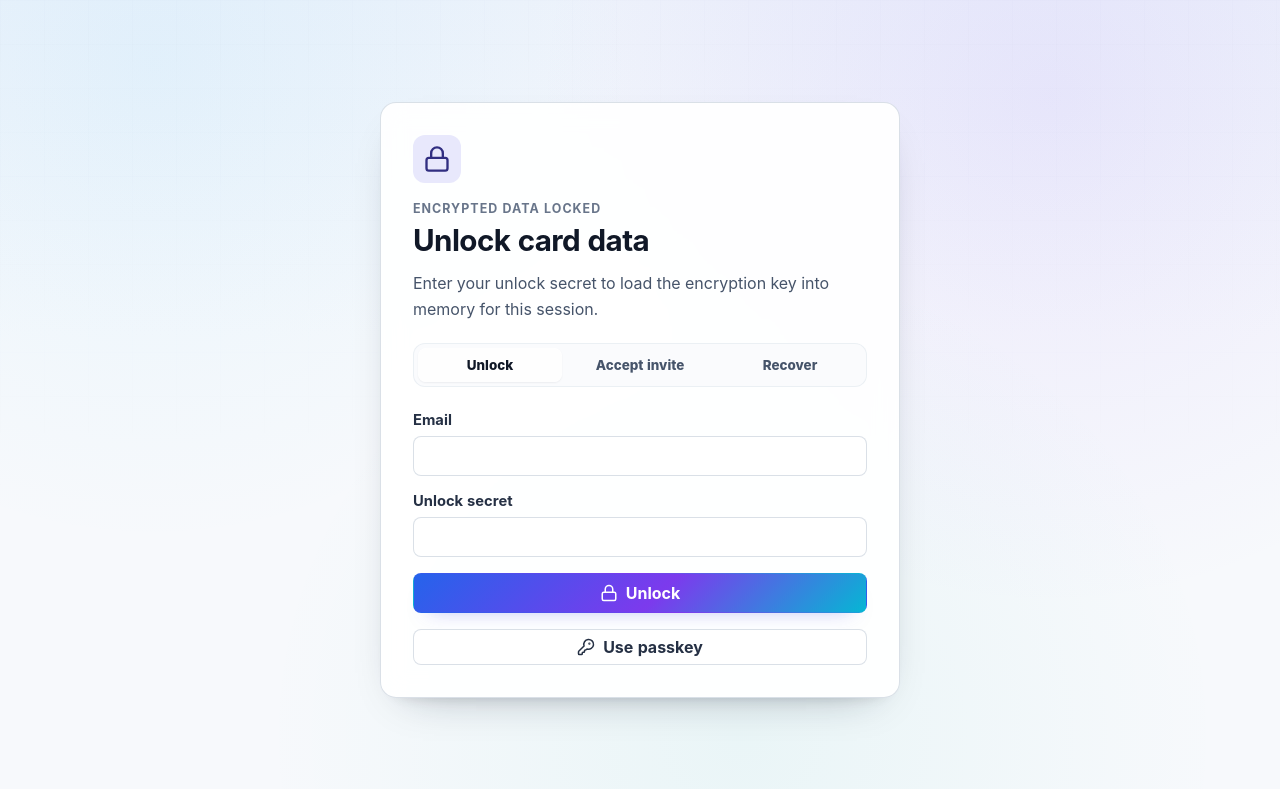
Test case: App › accepts an invite from the locked screen
The width and height of the screenshot is (1280, 789).
Expected: the heading "Unlock card data" is shown, [413,222,649,258]
Step 1. Click the button with aria-label "show invite form" → point(640, 365), box [568,348,712,382]
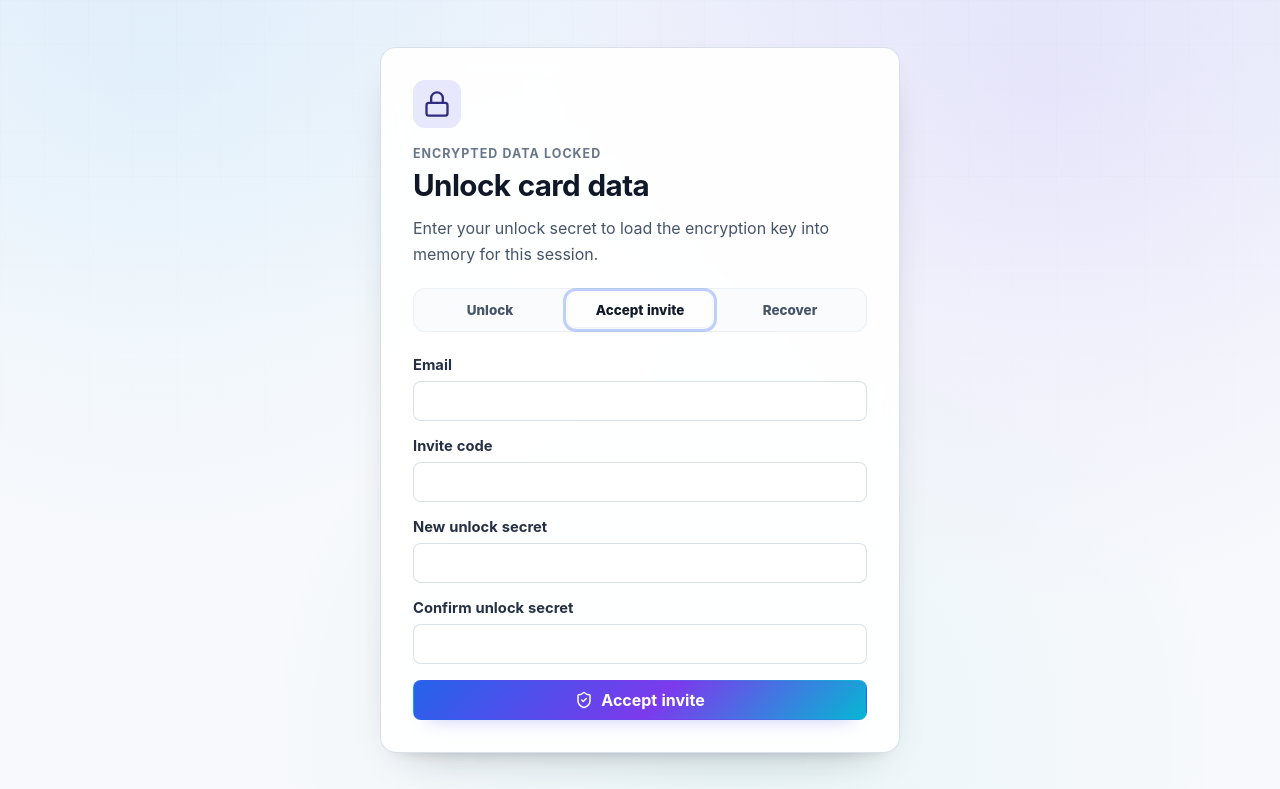
Step 2. Type "viewer@example.com" into the field labelled "Email" → point(640, 401), box [413,381,867,421]
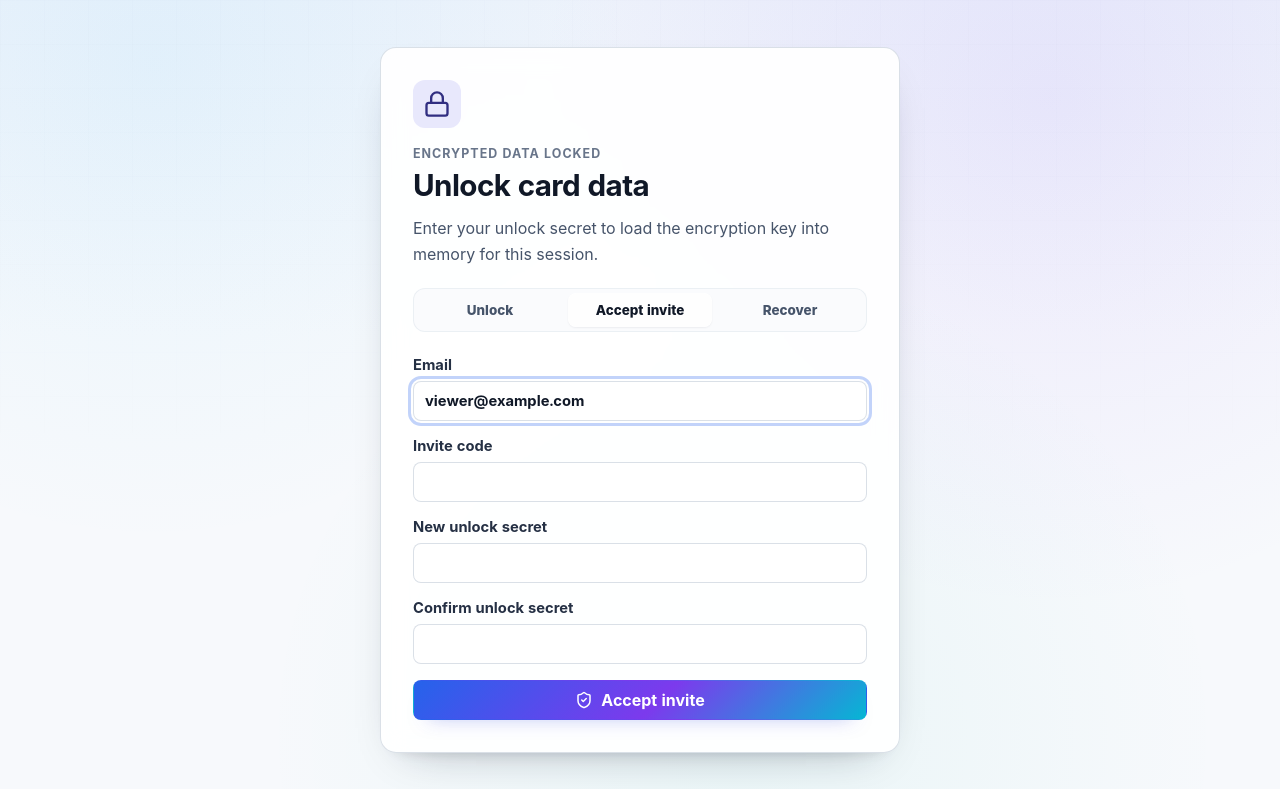
Step 3. Type "GC-INV-ABCD-EFGH-IJKL-MNOP-QRST-UVWX" into the field labelled "Invite code" → point(640, 482), box [413,462,867,502]
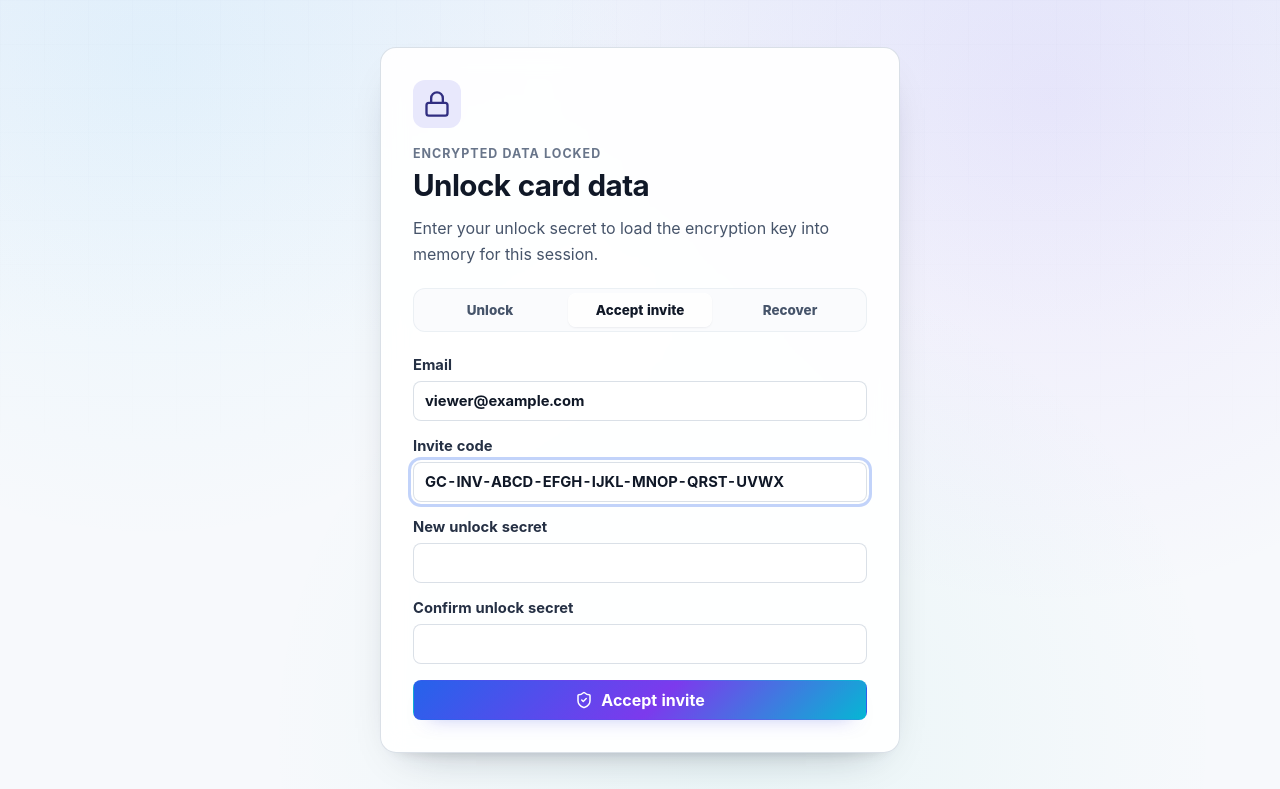
Step 4. Type "viewer strong unlock phrase" into the password field labelled "New unlock secret" → point(640, 563), box [413,543,867,583]
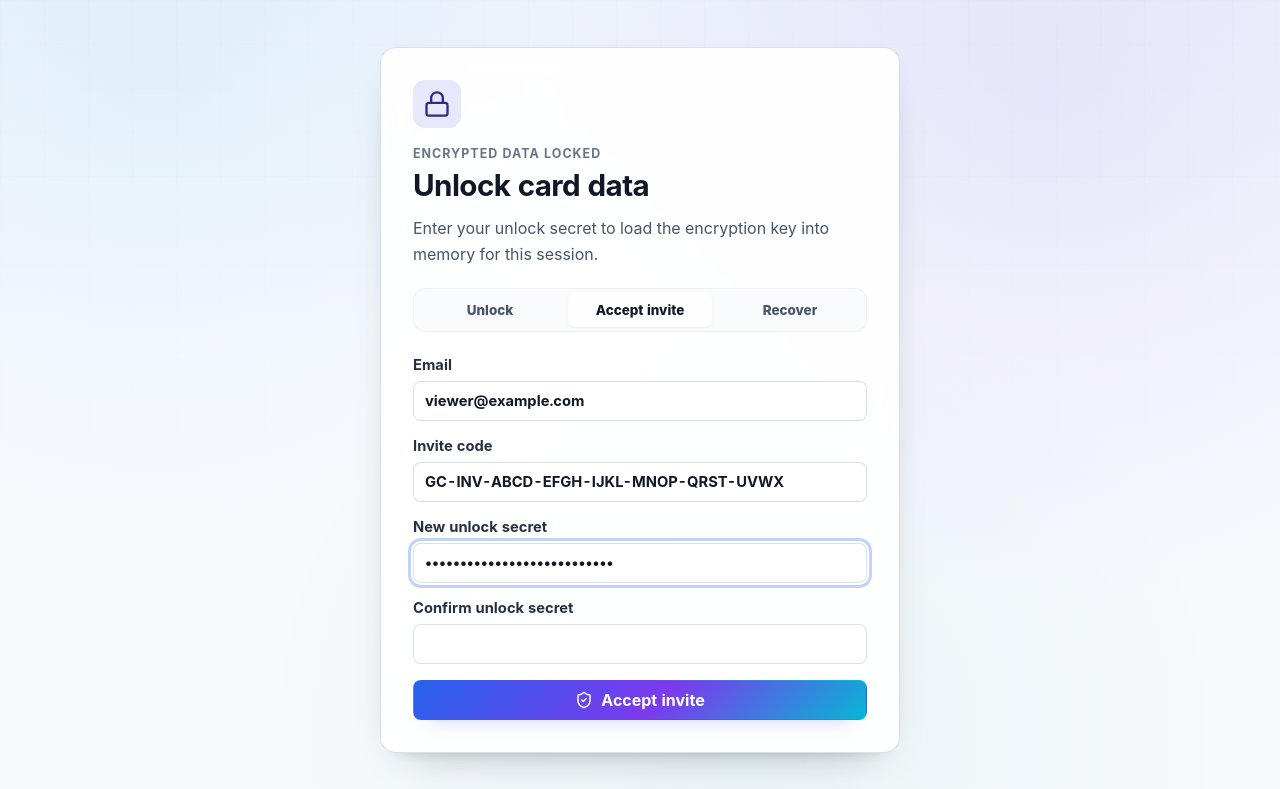
Step 5. Type "viewer strong unlock phrase" into the password field labelled "Confirm unlock secret" → point(640, 644), box [413,624,867,664]
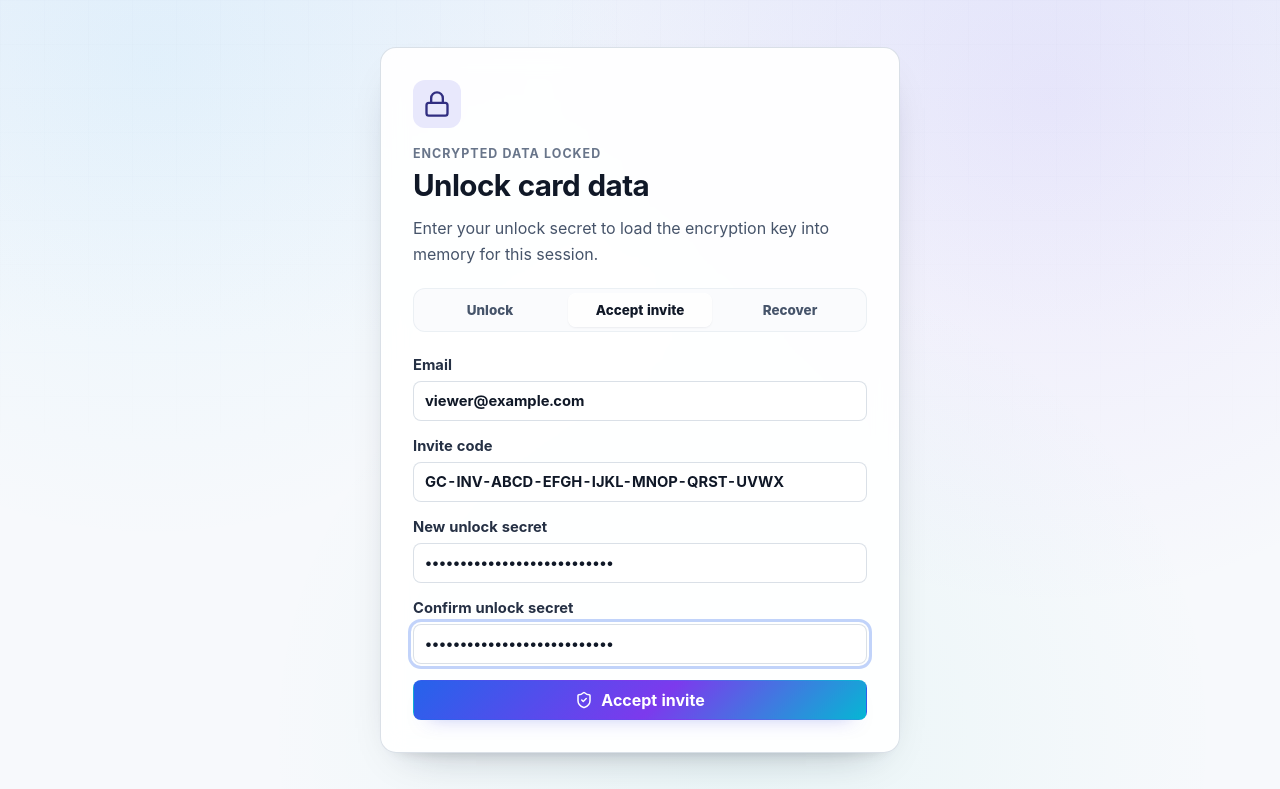
Step 6. Click the button "Accept invite" below "Confirm unlock secret" → point(640, 700), box [413,680,867,720]
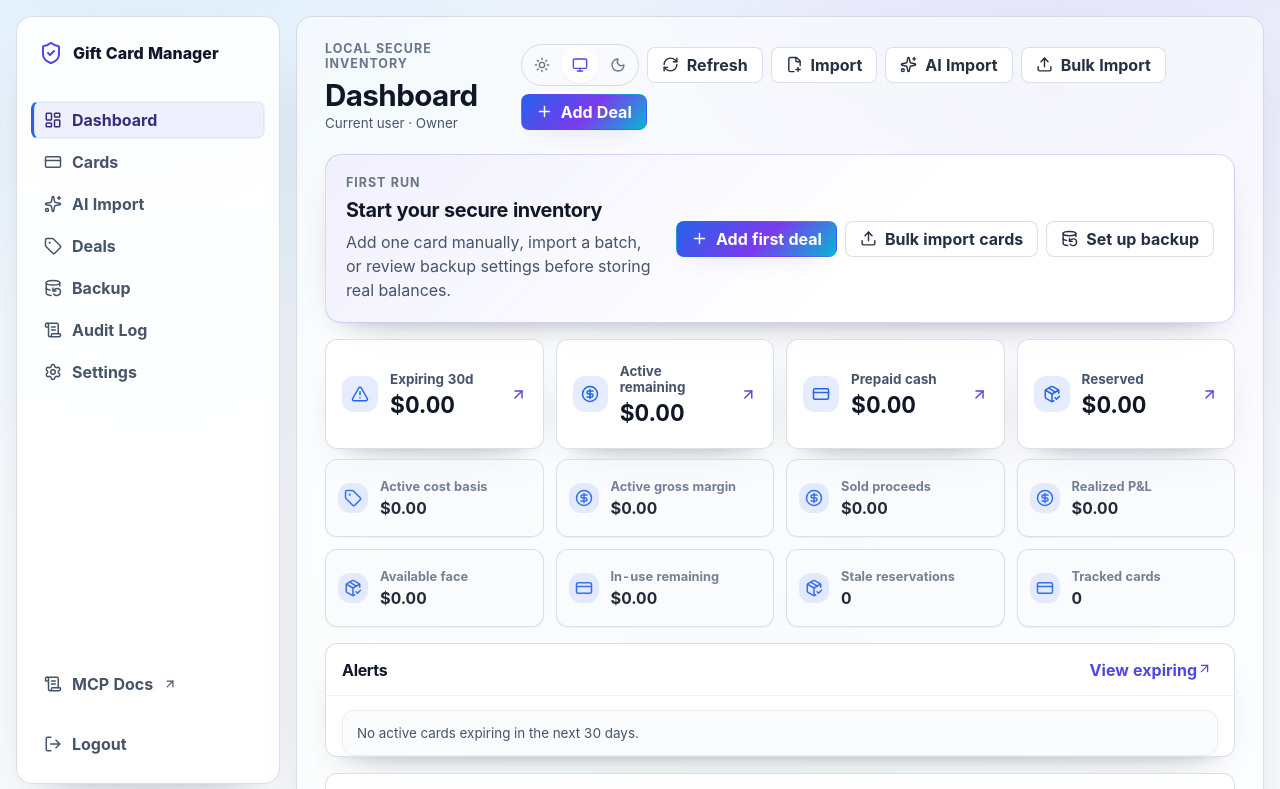
Result: the heading "Dashboard" is shown at [325,79,503,112]
